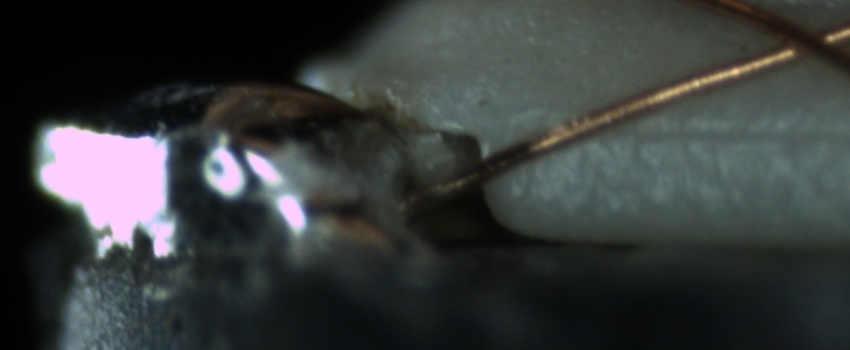CL: (749, 9, 848, 74)
DL: (576, 100, 846, 163)
